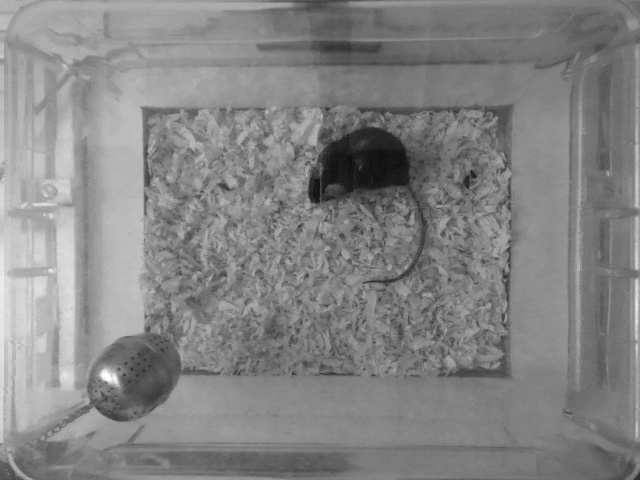mice: (304, 119, 432, 280)
